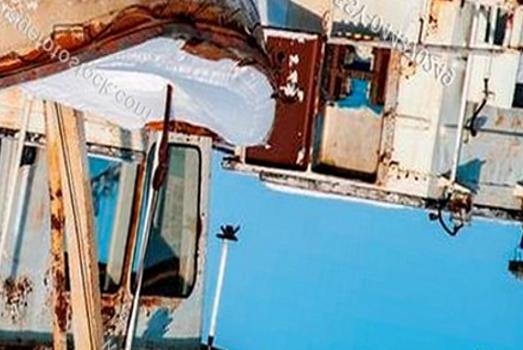rust: (258, 34, 339, 170), (150, 1, 289, 72), (3, 28, 153, 91), (49, 191, 77, 344), (114, 4, 203, 52), (99, 285, 177, 338), (365, 34, 405, 108), (2, 270, 36, 335)
